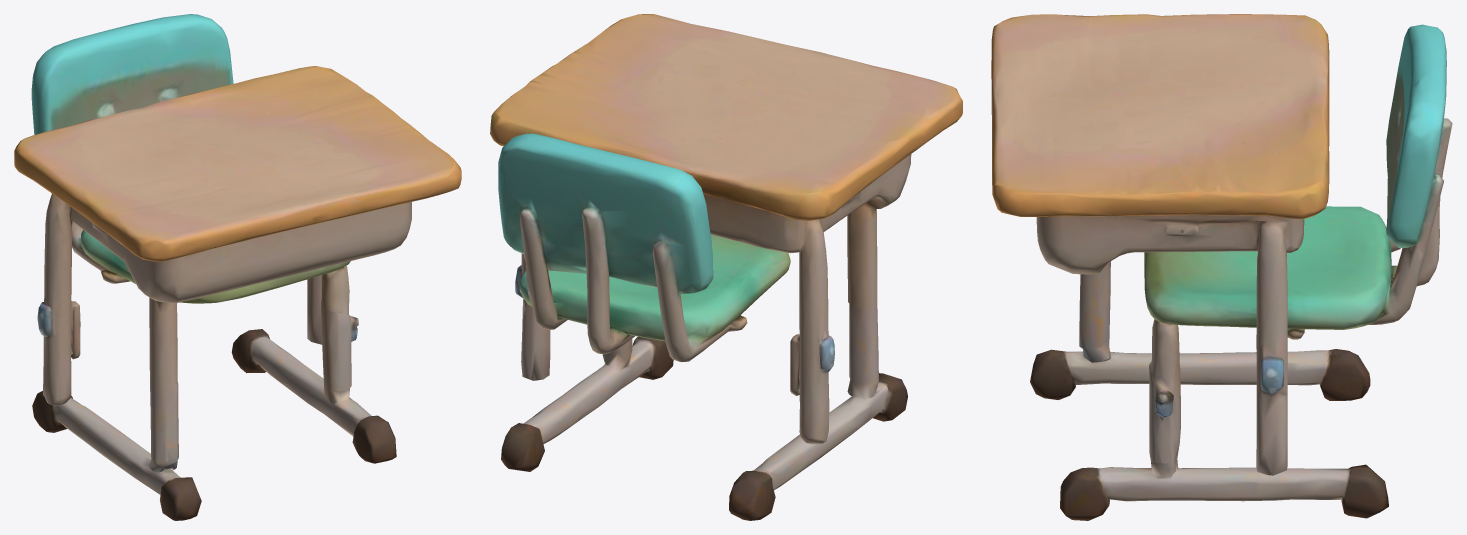
The model's file is school-desk.glb.
The picture shows the model from 3 angles, left to right: view 1: azimuth 30°, elevation 25°; view 2: azimuth 150°, elevation 25°; view 3: azimuth 270°, elevation 25°; orthographic projection. The views are drawn at different scales.
Visible parts, largest first — view 1: tripo_node_1148a625-fd39-469c-9087-eb2c13492ed9; view 2: tripo_node_1148a625-fd39-469c-9087-eb2c13492ed9; view 3: tripo_node_1148a625-fd39-469c-9087-eb2c13492ed9.
Boxes of the visible parts, left/top/right/bottom form: tripo_node_1148a625-fd39-469c-9087-eb2c13492ed9: left=14, top=14, right=461, bottom=520; tripo_node_1148a625-fd39-469c-9087-eb2c13492ed9: left=490, top=14, right=962, bottom=520; tripo_node_1148a625-fd39-469c-9087-eb2c13492ed9: left=991, top=14, right=1452, bottom=520.
Bounding box in the file's own units: 0.9358 × 0.9474 × 1.
Materials: 1 (1 with a texture image).
